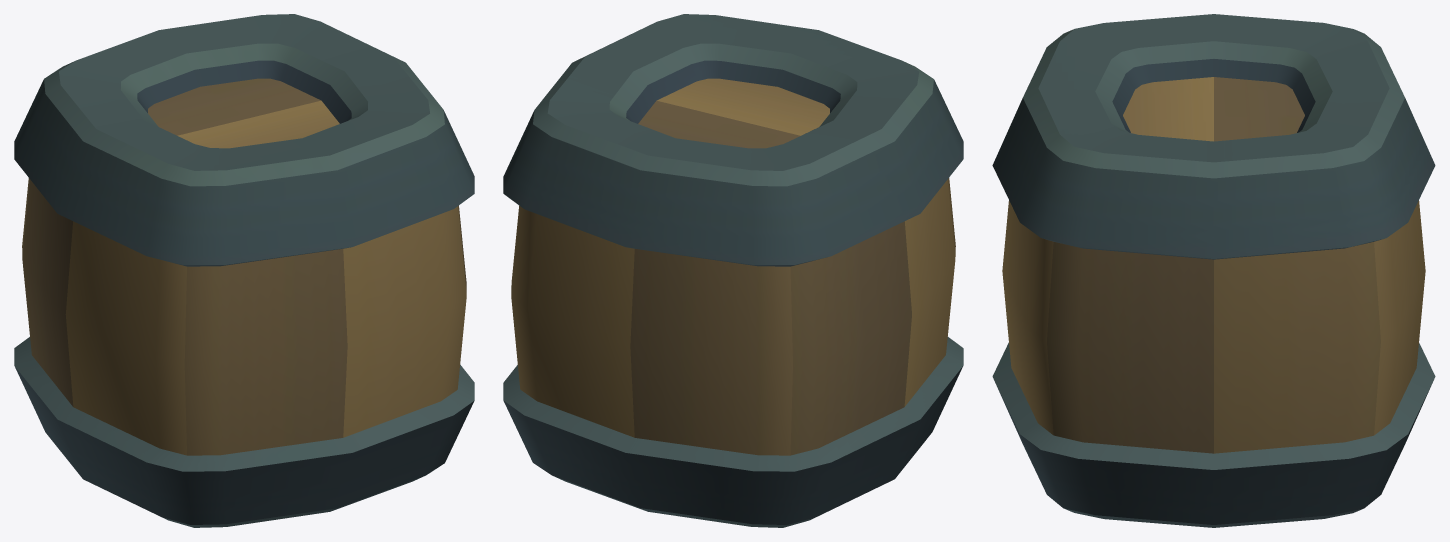
The model's file is barrel_3.fbx.
3 views of the same model, side by side, from view 1: azimuth 30°, elevation 25°; view 2: azimuth 150°, elevation 25°; view 3: azimuth 270°, elevation 25° (orthographic). The views are drawn at different scales.
Visible parts, largest first — view 1: barrel_3; view 2: barrel_3; view 3: barrel_3.
Part boxes in pixels (box(x1,y1,x2,y2)): barrel_3: box(14, 14, 474, 527); barrel_3: box(503, 14, 963, 527); barrel_3: box(992, 14, 1435, 527).
Bounding box in the file's own units: 112 × 102 × 112.
